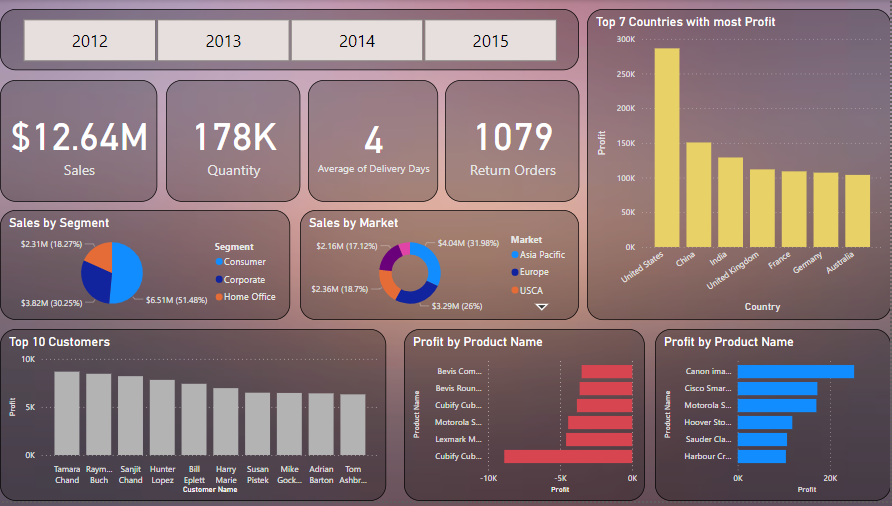

This screenshot's page, from the dashboard's own definition file:
{"tool":"powerbi","page":{"name":"Page 1","canvas":[1280,720],"ordinal":0},"visuals":[{"type":"card","fields":{"Values":["Orders.Sales"]},"box":[0,115,225.6,175.3],"z":0},{"type":"card","fields":{"Values":["Orders.Quantity"]},"box":[238.6,115,192.6,175.3],"z":1000},{"type":"card","fields":{"Values":["Orders.Delivery Days"]},"box":[442.6,115,186.8,175.3],"z":2000},{"type":"slicer","fields":{"Values":["Orders.Year"]},"box":[0,12.9,832.1,87.7],"z":3000},{"type":"card","fields":{"Values":["Returns.Return Orders"]},"box":[639.5,115,192.6,175.3],"z":4000},{"type":"columnChart","title":"Top 7 Countries with most Profit","fields":{"Category":["Orders.Country"],"Y":["Orders.Profit"]},"box":[843.6,12.9,436.9,446.9],"z":5000},{"type":"barChart","fields":{"Category":["Orders.Product Name"],"Y":["Orders.Profit"]},"box":[941.3,472.8,339.2,247.2],"z":6000},{"type":"barChart","fields":{"Category":["Orders.Product Name"],"Y":["Orders.Profit"]},"box":[580.6,472.8,346.3,247.2],"z":7000},{"type":"pieChart","fields":{"Category":["Orders.Segment"],"Y":["Orders.Sales"]},"box":[0,301.8,416.8,158.1],"z":8000},{"type":"donutChart","fields":{"Y":["Orders.Sales"],"Category":["Orders.Market"]},"box":[431.1,301.8,401,158.1],"z":9000},{"type":"columnChart","title":"Top 10 Customers","fields":{"Y":["Orders.Profit"],"Category":["Orders.Customer Name"]},"box":[0,472.8,554.7,247.2],"z":10001}]}

Visuals, with their boxes in screenshot pixels (x1, y1, x2, y2), scaled from the page's 1280x720 canvas onto the 892x506 screenshot:
card - Orders.Sales: Rect(0, 81, 157, 204)
card - Orders.Quantity: Rect(166, 81, 300, 204)
card - Orders.Delivery Days: Rect(308, 81, 439, 204)
slicer - Orders.Year: Rect(0, 9, 580, 71)
card - Returns.Return Orders: Rect(446, 81, 580, 204)
"Top 7 Countries with most Profit" columnChart: Rect(588, 9, 891, 323)
barChart - Orders.Product Name x Orders.Profit: Rect(656, 332, 891, 505)
barChart - Orders.Product Name x Orders.Profit: Rect(405, 332, 646, 505)
pieChart - Orders.Segment x Orders.Sales: Rect(0, 212, 290, 323)
donutChart - Orders.Sales x Orders.Market: Rect(300, 212, 580, 323)
"Top 10 Customers" columnChart: Rect(0, 332, 387, 505)
